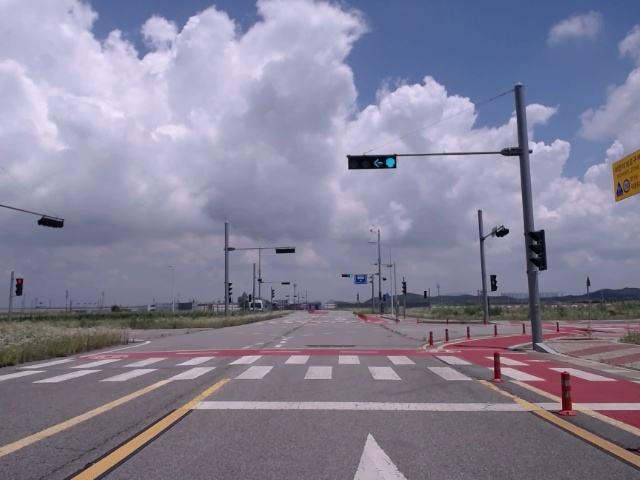all_green_4: (344, 154, 399, 168)
